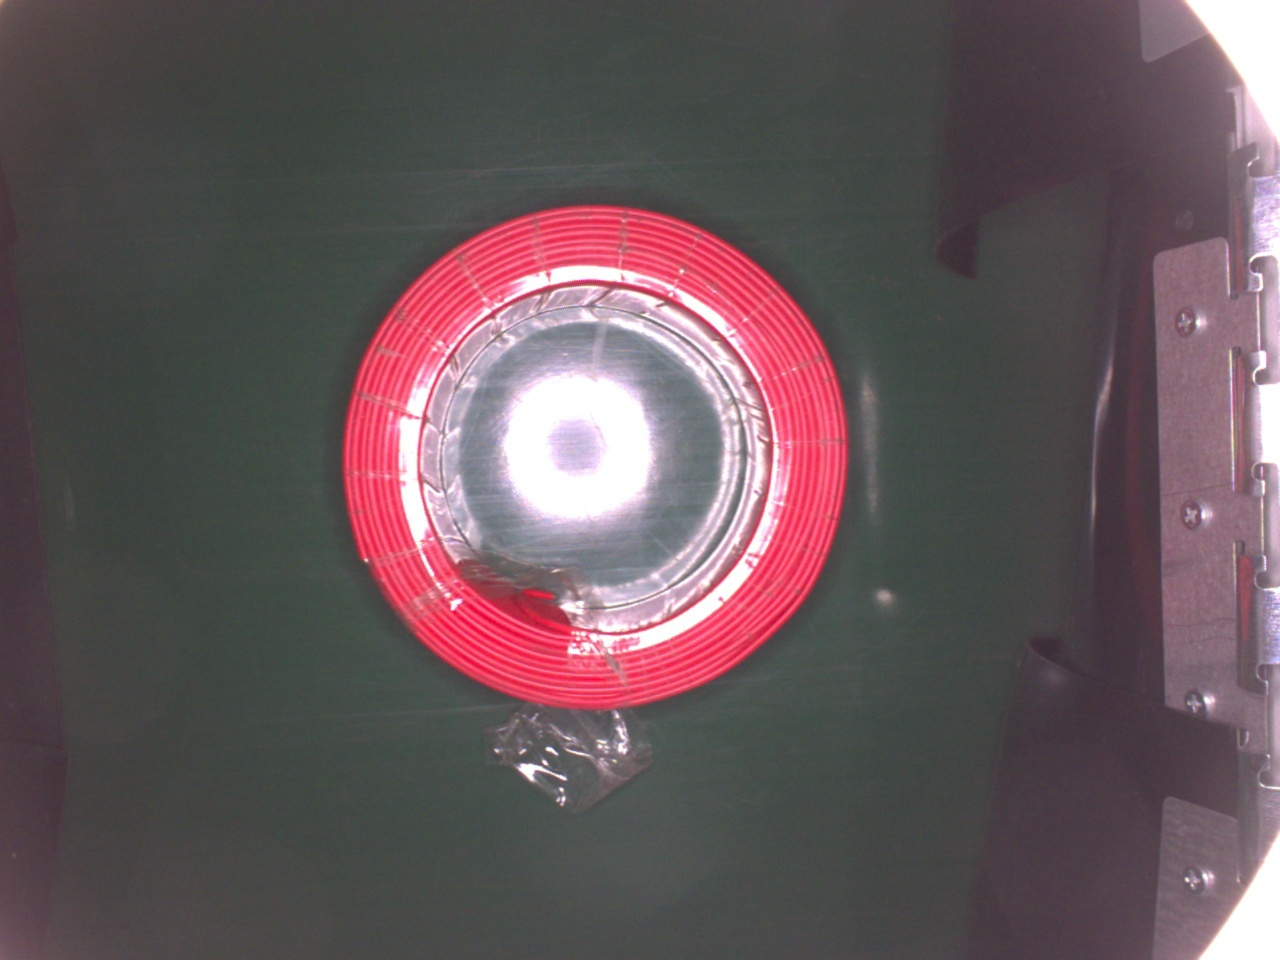red: (343, 201, 847, 718)
